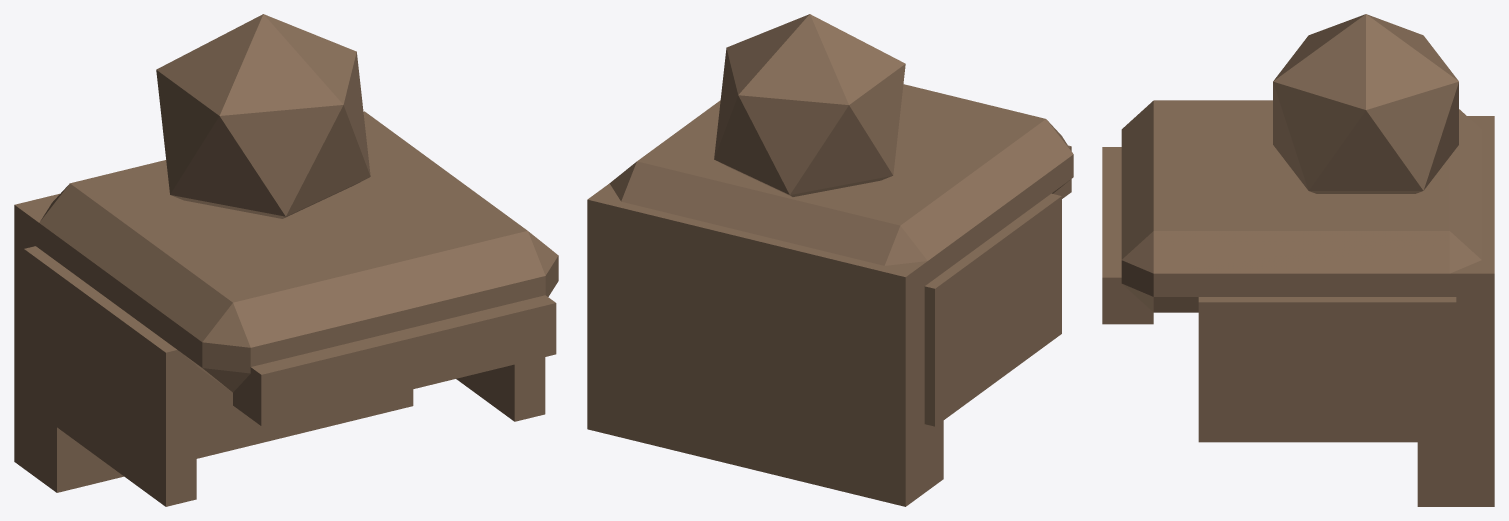
The model's file is CharHairBun.fbx.
The picture shows the model from 3 angles, left to right: view 1: azimuth 30°, elevation 25°; view 2: azimuth 150°, elevation 25°; view 3: azimuth 270°, elevation 25°; orthographic projection. The views are drawn at different scales.
Parts seen in each view (by area): view 1: CharHairBun; view 2: CharHairBun; view 3: CharHairBun.
Part boxes in pixels (x1,y1,x2,y2): CharHairBun: (14, 14, 558, 506); CharHairBun: (587, 14, 1073, 506); CharHairBun: (1102, 14, 1494, 506).
Size of the model in its own units: 0.309 by 0.355 by 0.305.
